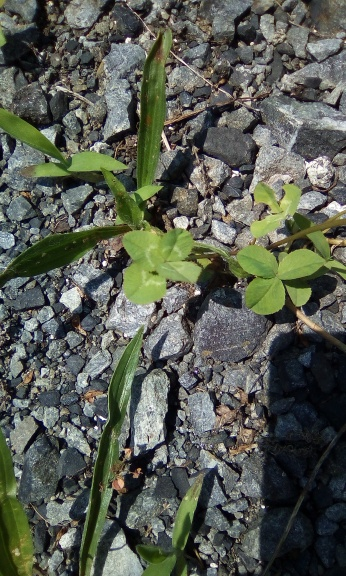4leaf: (121, 228, 201, 305)
